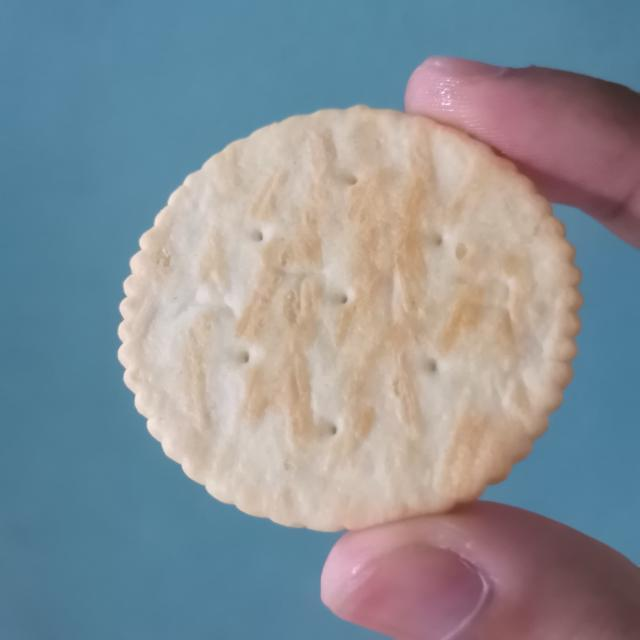Intact: (107, 97, 600, 539)
